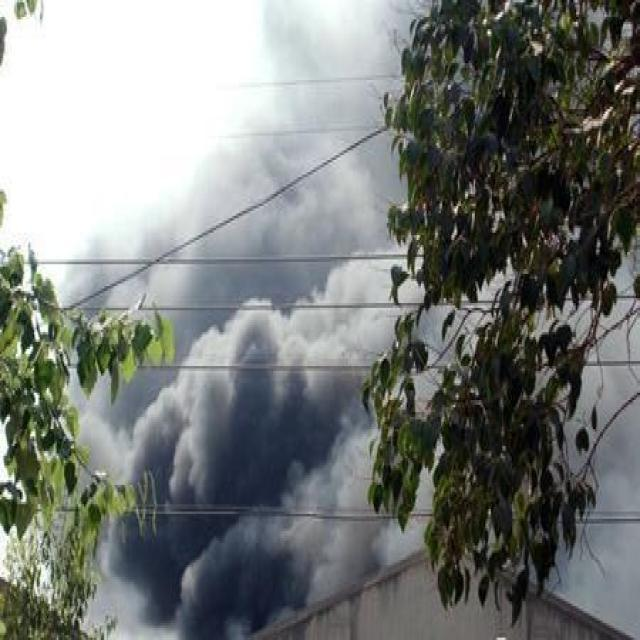Smoke: (36, 2, 514, 640), (530, 252, 640, 640)
